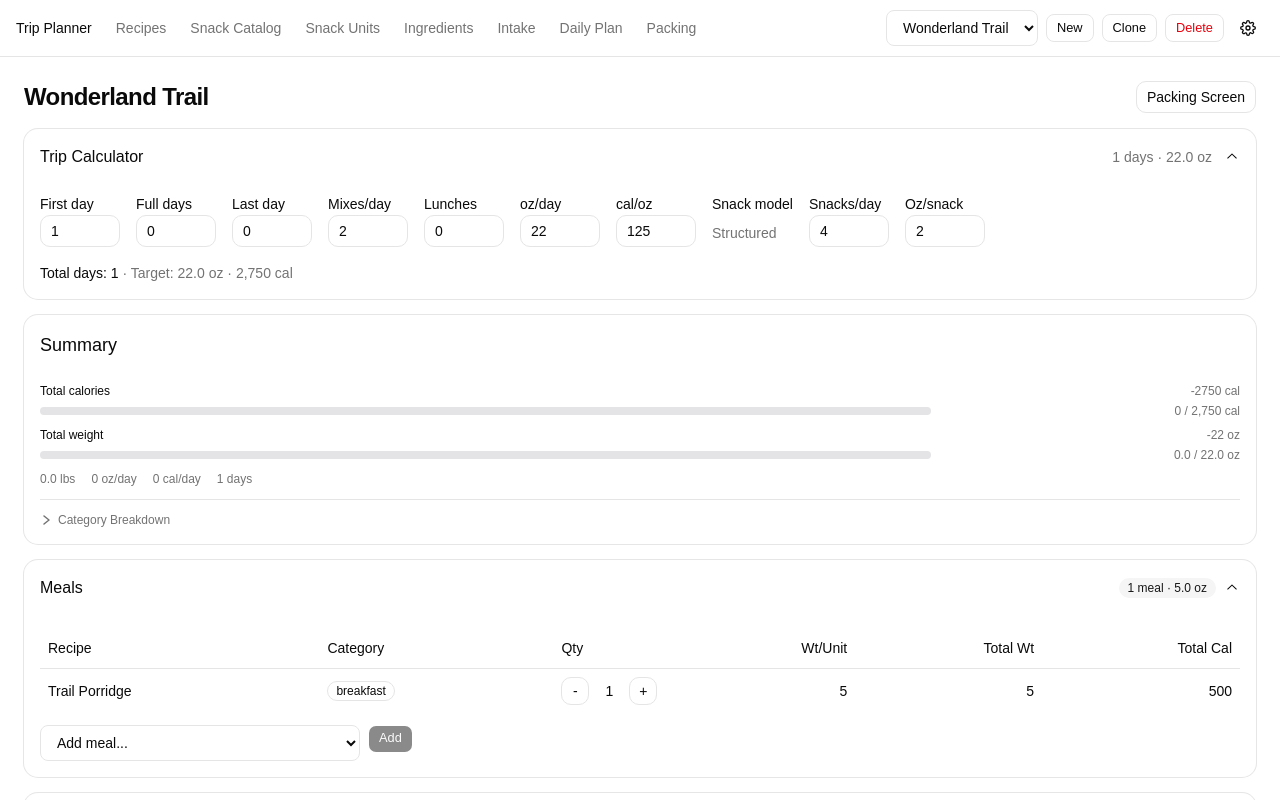
it: MealSelection › a successful quantity change refreshes the trip and renders the updated value
The image size is (1280, 800).
Click the button named "Increase Trail Porridge quantity": (643, 690) [629, 676, 657, 704]
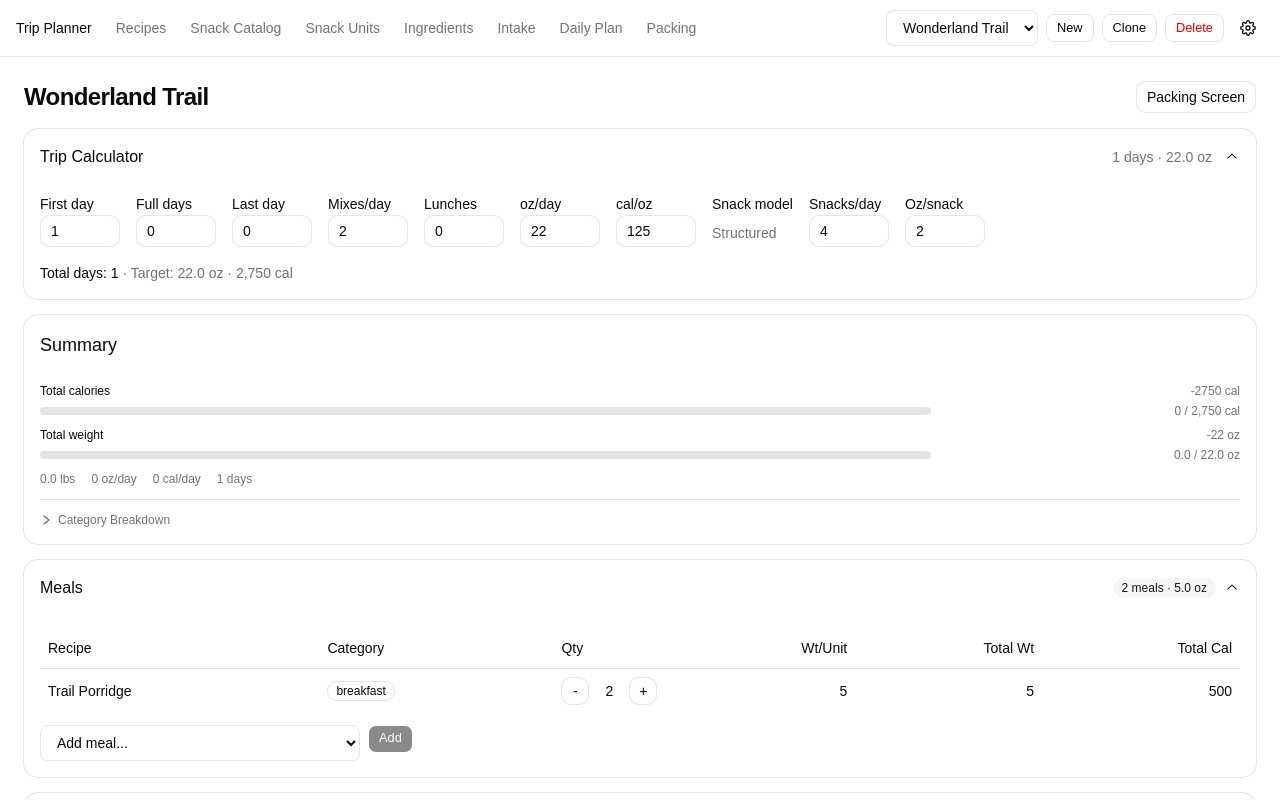
Now the text "2" is shown, box [606, 682, 613, 698]
